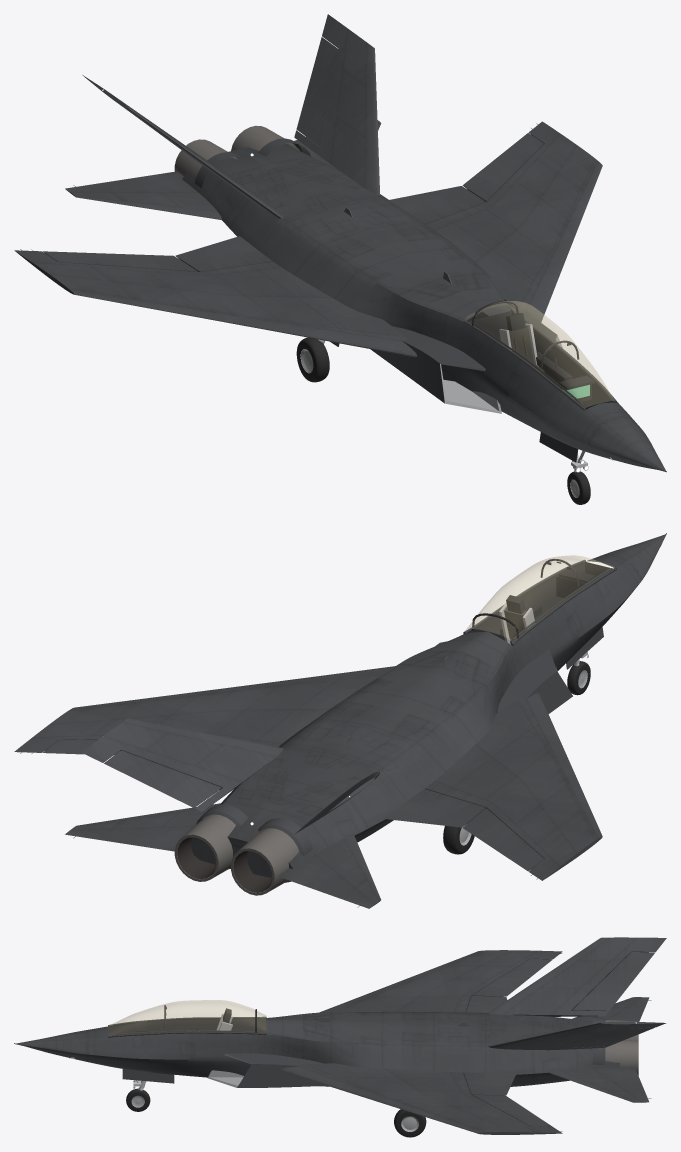
Rendered from stealth-fighter.glb.
The picture shows the model from 3 angles, top to bottom: view 1: azimuth 30°, elevation 25°; view 2: azimuth 150°, elevation 25°; view 3: azimuth 270°, elevation 25°; orthographic projection. The views are drawn at different scales.
Parts seen in each view (by area): view 1: wings_tails, fuselage, canopy_glass, intakes, cockpit, stabilator_R_mesh, nozzles, rudder_L_mesh, aileron_L_mesh, flap_L_mesh, flap_R_mesh, aileron_R_mesh (+3 smaller); view 2: fuselage, wings_tails, nozzles, canopy_glass, stabilator_R_mesh, cockpit, stabilator_L_mesh, rudder_L_mesh, intakes, flap_R_mesh, aileron_R_mesh, canopy_frame (+3 smaller); view 3: fuselage, wings_tails, canopy_glass, intakes, stabilator_L_mesh, cockpit, rudder_R_mesh, nozzles, aileron_R_mesh, canopy_frame, flap_L_mesh, aileron_L_mesh (+6 smaller).
Part boxes in pixels (box(x1,y1,x2,y2)): wings_tails: box(14, 14, 602, 357); fuselage: box(182, 144, 666, 472); canopy_glass: box(465, 301, 614, 407); intakes: box(370, 304, 562, 413); cockpit: box(467, 311, 613, 409); stabilator_R_mesh: box(65, 171, 221, 219); nozzles: box(174, 125, 310, 188); rudder_L_mesh: box(296, 37, 337, 147); aileron_L_mesh: box(462, 133, 544, 201); flap_L_mesh: box(389, 186, 485, 224); flap_R_mesh: box(175, 236, 272, 271); aileron_R_mesh: box(43, 251, 197, 271); fuselage: box(191, 533, 666, 877); wings_tails: box(14, 666, 602, 880); nozzles: box(174, 804, 312, 895); canopy_glass: box(465, 555, 614, 642); stabilator_R_mesh: box(278, 835, 380, 908); cockpit: box(468, 562, 612, 644); stabilator_L_mesh: box(65, 803, 220, 851); rudder_L_mesh: box(104, 750, 221, 807); intakes: box(436, 641, 572, 713); flap_R_mesh: box(382, 788, 485, 827); aileron_R_mesh: box(463, 808, 543, 871); canopy_frame: box(463, 558, 616, 645); fuselage: box(14, 1011, 619, 1086); wings_tails: box(280, 937, 666, 1134); canopy_glass: box(108, 1000, 265, 1035); intakes: box(208, 1053, 326, 1087); stabilator_L_mesh: box(549, 1067, 648, 1102); cockpit: box(108, 1008, 266, 1035); rudder_R_mesh: box(572, 952, 655, 1010); nozzles: box(592, 1017, 638, 1075); aileron_R_mesh: box(472, 958, 552, 996); canopy_frame: box(108, 1005, 266, 1037); flap_L_mesh: box(463, 1072, 516, 1095); aileron_L_mesh: box(472, 1094, 552, 1126).
Bounding box in the file's own units: 11.69 × 3.95 × 17.72.
Materials: 25 (1 with a texture image).
